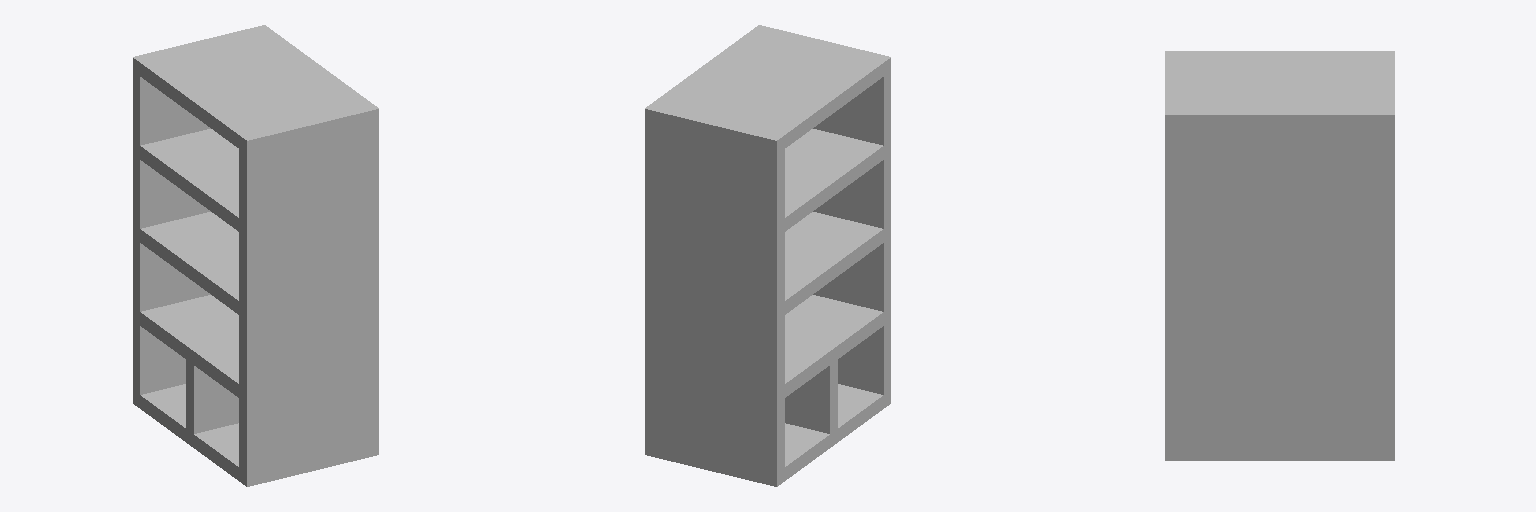
Rendered from fridge.obj.
The picture shows the model from 3 angles: view 1: azimuth 30°, elevation 25°; view 2: azimuth 150°, elevation 25°; view 3: azimuth 270°, elevation 25°; orthographic projection.
Parts seen in each view (by area): view 1: fridge; view 2: fridge; view 3: fridge.
Boxes of the visible parts, <box> form: fridge: <box>133,25,378,486</box>; fridge: <box>645,25,890,486</box>; fridge: <box>1165,51,1394,460</box>.
Size of the model in its own units: 10 by 25 by 15.